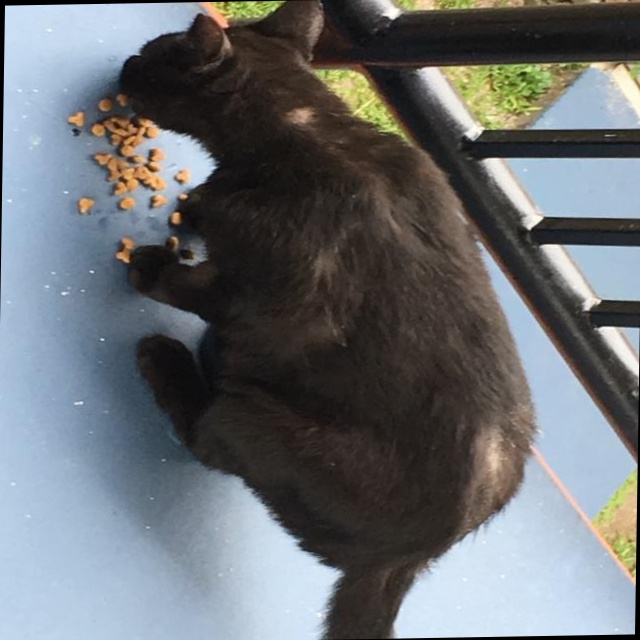hairloss: (483, 430, 511, 483), (289, 109, 321, 122)
